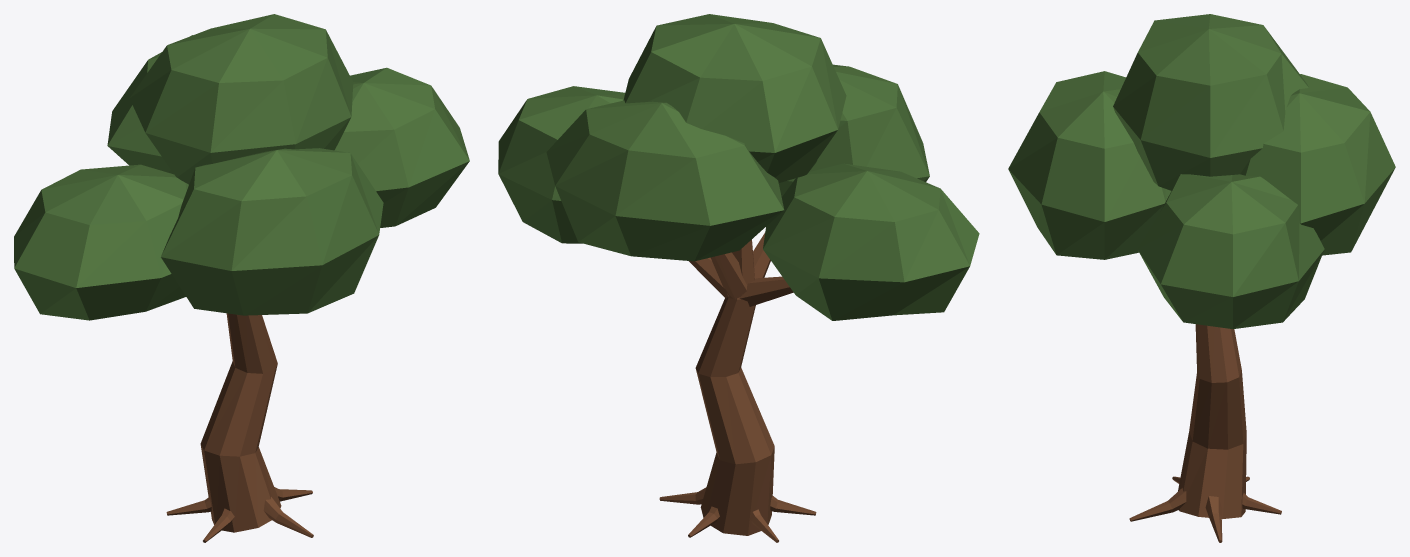
Rendered from Plant_Common_GnarledOak_001.glb.
The picture shows the model from 3 angles, left to right: view 1: azimuth 30°, elevation 25°; view 2: azimuth 150°, elevation 25°; view 3: azimuth 270°, elevation 25°; orthographic projection.
Visible parts, largest first — view 1: Plant_Common_GnarledOak_001; view 2: Plant_Common_GnarledOak_001; view 3: Plant_Common_GnarledOak_001.
Part boxes in pixels (left/top/right/bottom): Plant_Common_GnarledOak_001: left=14, top=14, right=469, bottom=542; Plant_Common_GnarledOak_001: left=498, top=14, right=979, bottom=542; Plant_Common_GnarledOak_001: left=1008, top=14, right=1395, bottom=542.
Size of the model in its own units: 6.93 by 7.15 by 5.14.
